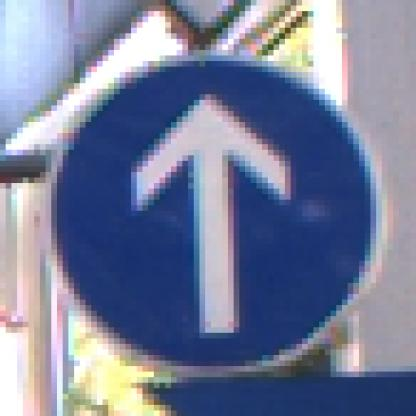AheadOnly: (41, 40, 383, 384)
